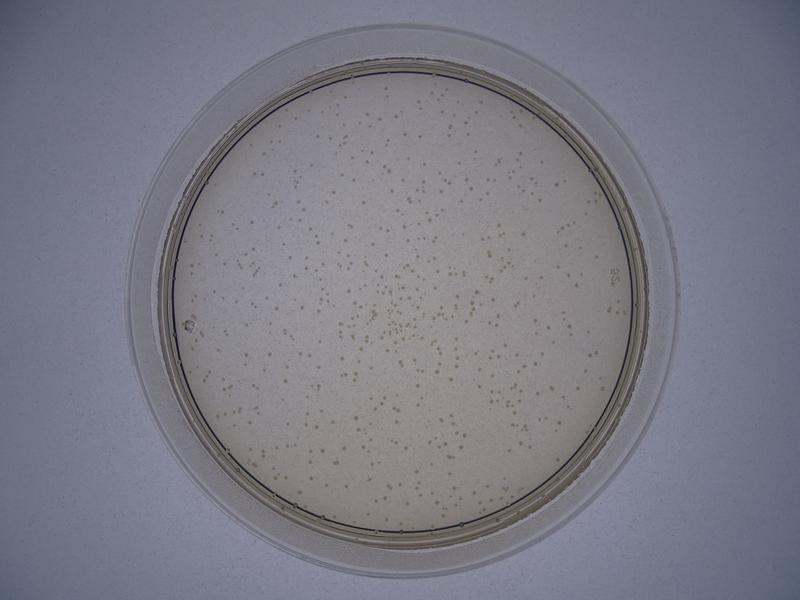colony: (283, 418, 293, 428), (314, 337, 325, 346), (533, 388, 542, 399), (454, 158, 466, 166), (359, 198, 369, 207), (285, 253, 295, 262), (337, 354, 347, 363), (307, 160, 317, 169), (366, 364, 376, 373), (581, 367, 591, 376), (266, 349, 275, 359), (242, 321, 251, 330), (538, 349, 547, 358), (369, 240, 379, 248), (472, 147, 481, 155), (504, 447, 513, 455), (552, 181, 560, 190), (259, 149, 267, 158), (281, 377, 290, 385), (242, 350, 251, 358), (323, 198, 332, 206), (345, 287, 353, 296), (312, 132, 320, 140), (264, 189, 272, 197), (522, 274, 530, 282), (532, 317, 540, 325), (584, 327, 591, 336), (457, 198, 466, 205), (239, 285, 248, 292), (554, 261, 561, 270), (330, 417, 337, 426), (262, 293, 269, 302), (582, 210, 591, 217), (248, 219, 255, 227), (520, 230, 527, 238), (342, 236, 350, 243), (495, 222, 503, 229), (211, 252, 220, 258), (215, 345, 221, 354), (417, 134, 424, 141), (574, 282, 581, 289), (402, 130, 408, 137), (447, 376, 453, 383), (400, 176, 406, 183)
